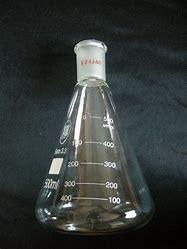Titrarion: (38, 35, 155, 231)
